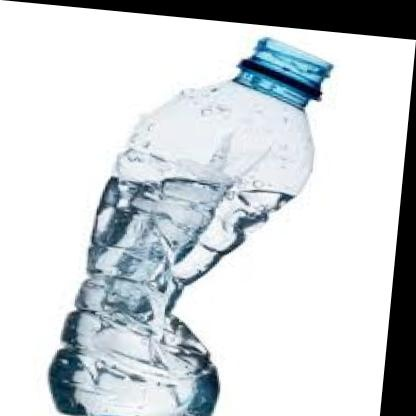trash: (49, 38, 332, 415)
